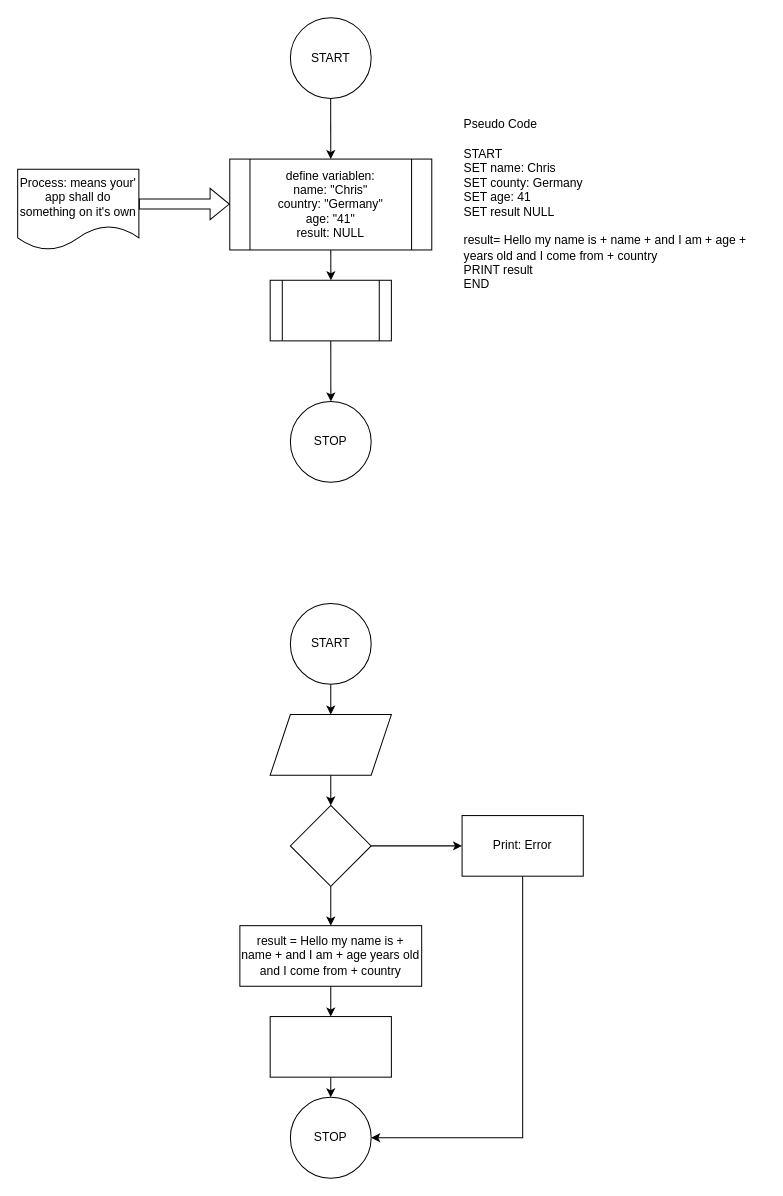
The diagram is 783 pixels wide and 1196 high, and some of its shapes have lost their labels. Each missing label, with the box of its shape:
all input exist: (289, 804, 371, 886)
Input: name, country, age: (269, 714, 391, 775)
Print: Result: (269, 1016, 391, 1077)
Text Generator Process: (269, 279, 391, 341)
